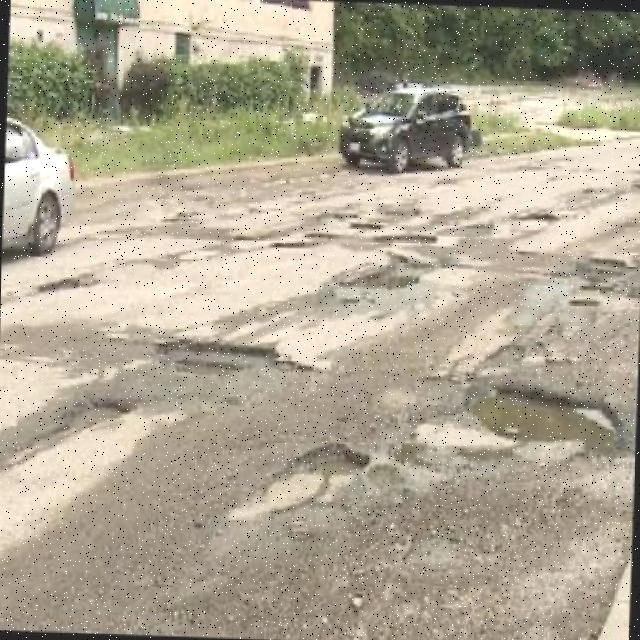Pothole: (462, 384, 623, 459), (0, 400, 137, 471), (141, 343, 325, 375), (280, 443, 370, 480)
